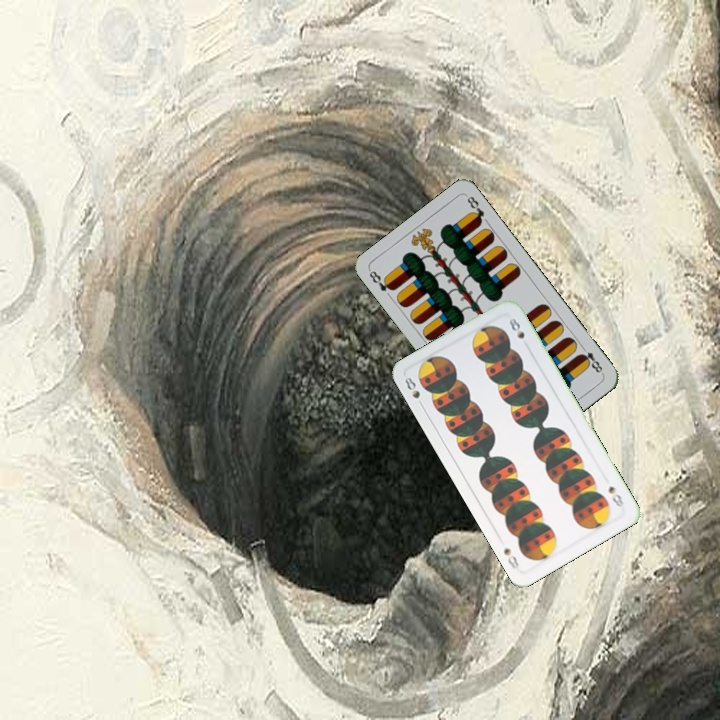E8: (365, 266, 397, 301), (576, 341, 606, 377)
S8: (401, 373, 427, 411), (604, 481, 627, 509)
